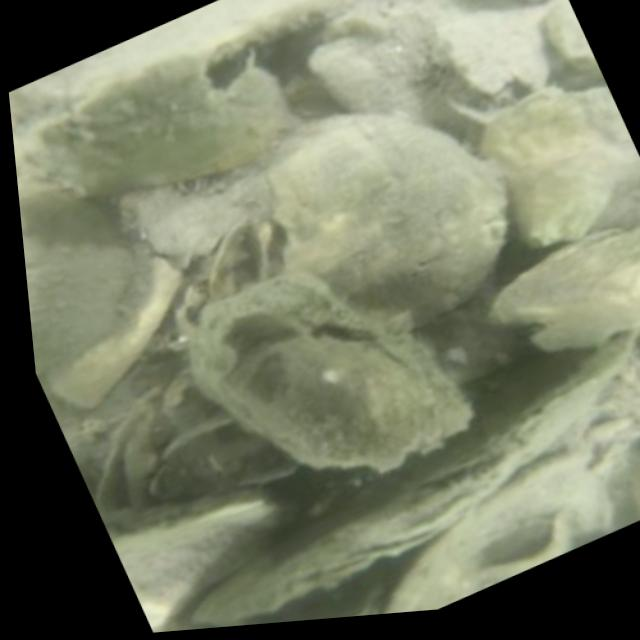Oyster-Closed: (190, 323, 640, 625)
Oyster-Indeterminate: (259, 100, 520, 330), (13, 55, 300, 200), (96, 475, 301, 633), (469, 80, 634, 246), (43, 249, 191, 418), (17, 177, 136, 381)
Oyster-Open: (181, 271, 469, 473)
